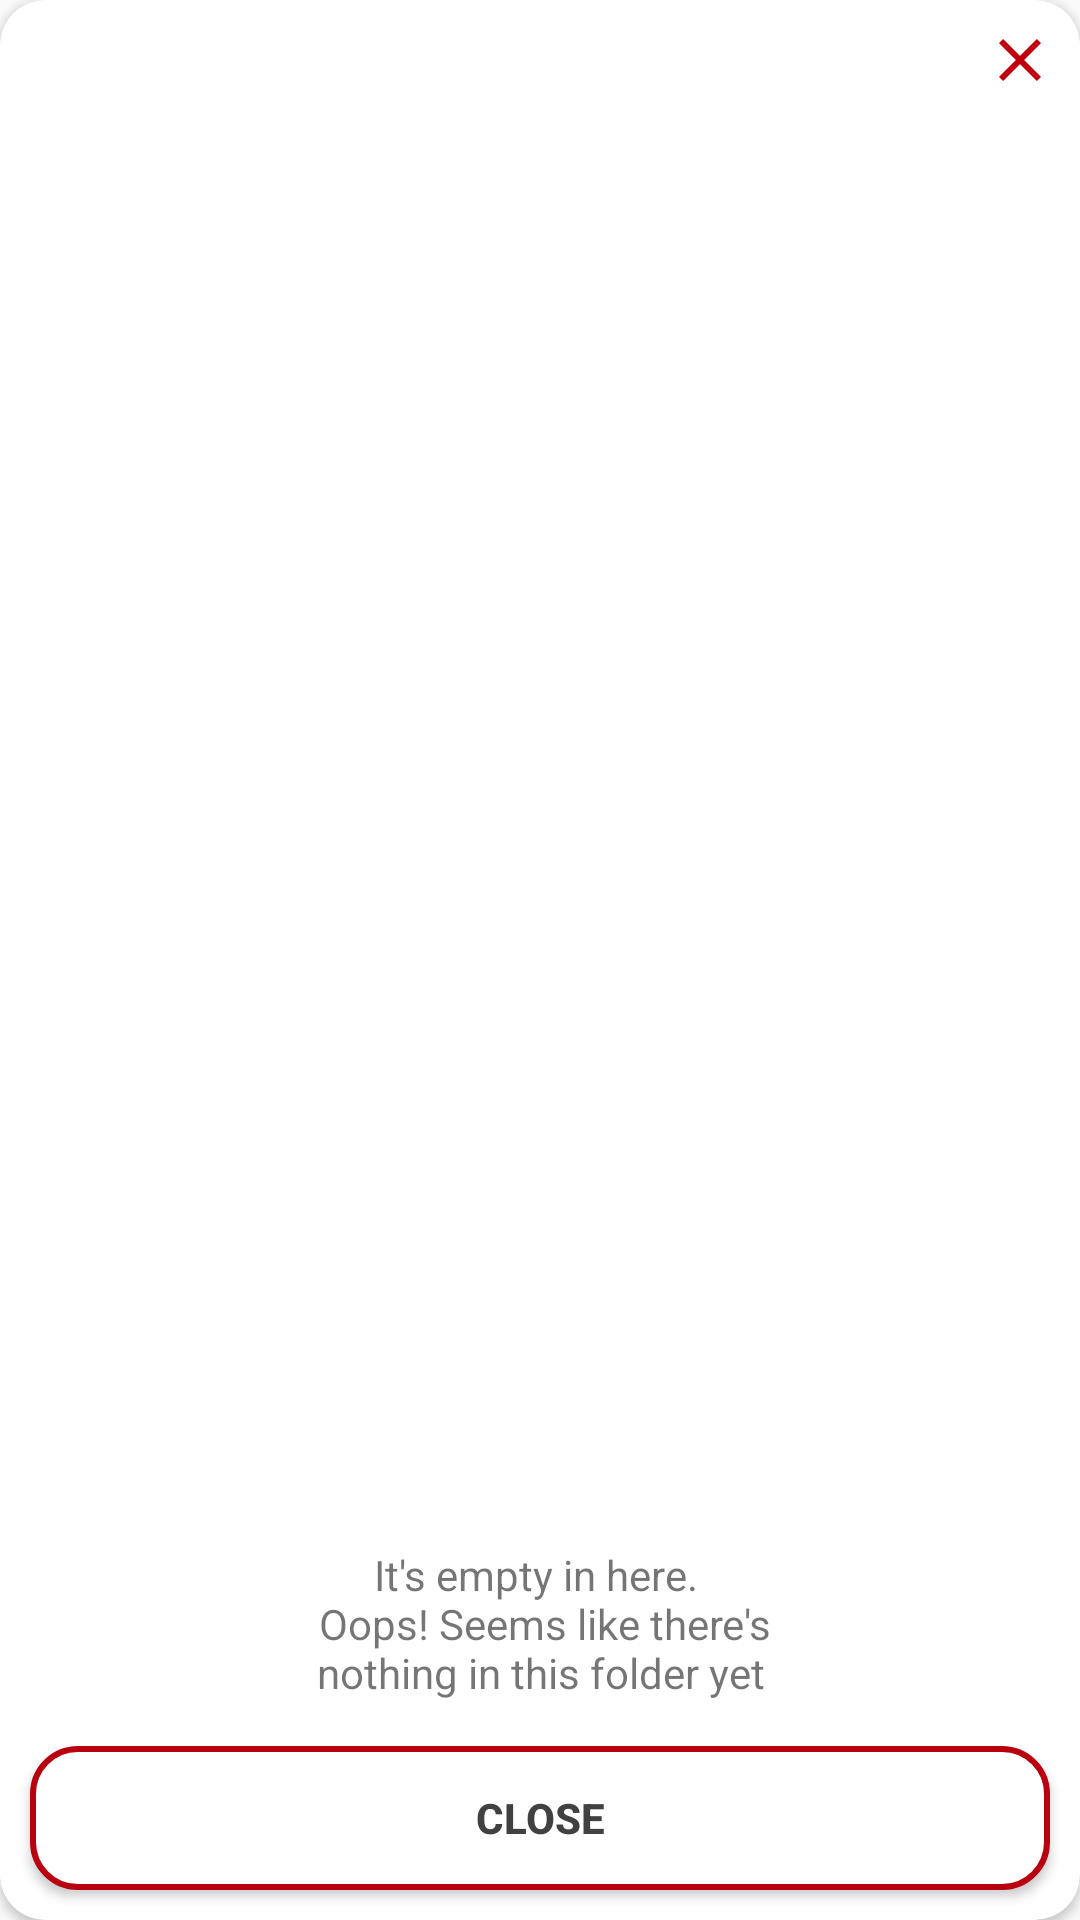

Screen size 1080px x 1920px. Icon name, then its box in pixels as (x1, y1, x2, y2):
close: (999, 39, 1041, 81)
